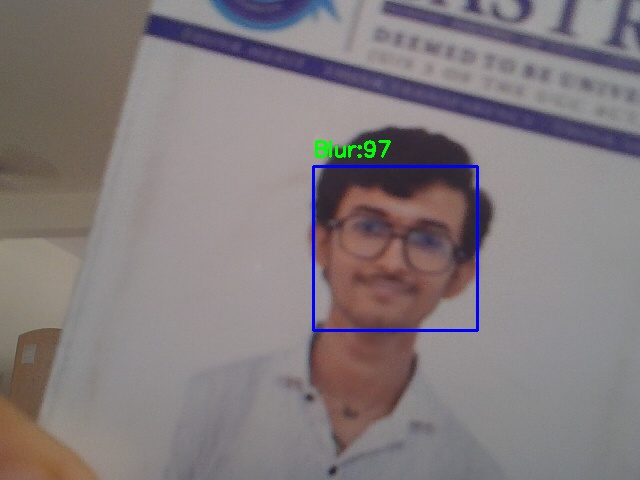fake: (313, 166, 477, 330)
